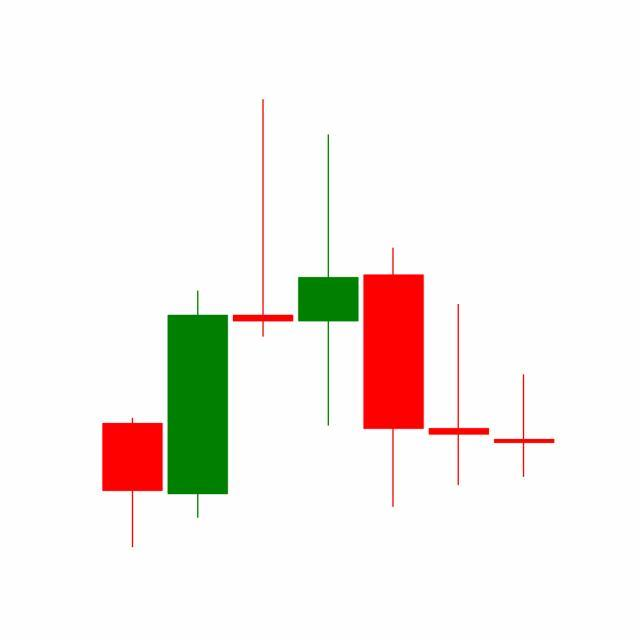Three Outside Up-Down: (295, 131, 492, 512)
